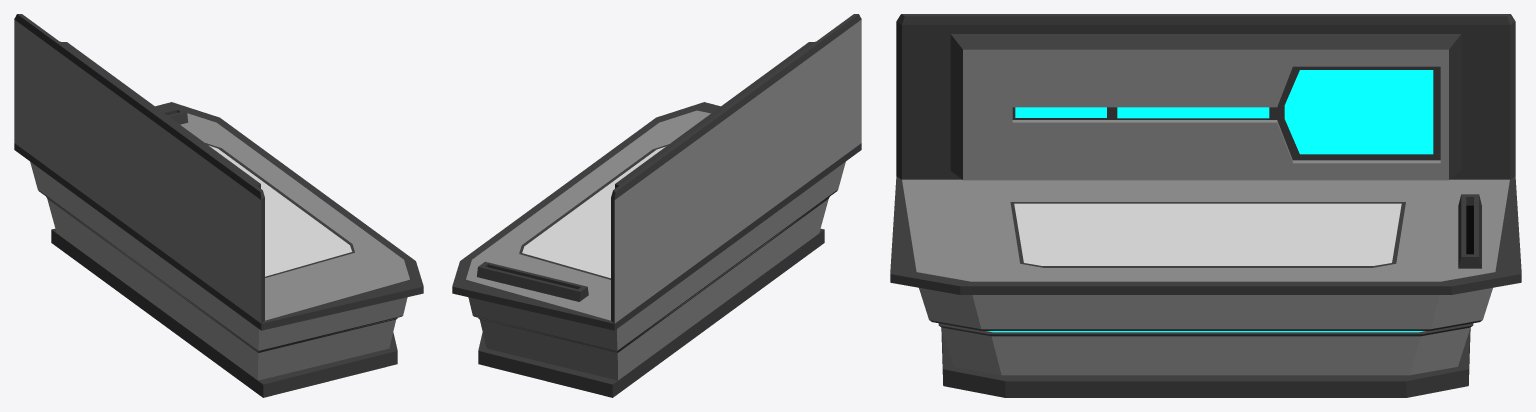
File: jigsaw puzzle.fbx
3 views of the same model, side by side, from view 1: azimuth 30°, elevation 25°; view 2: azimuth 150°, elevation 25°; view 3: azimuth 270°, elevation 25° (orthographic). The views are drawn at different scales.
Visible parts, largest first — view 1: Cube; view 2: Cube; view 3: Cube.
Boxes of the visible parts, left/top/right/bottom form: Cube: left=14, top=14, right=423, bottom=397; Cube: left=452, top=14, right=861, bottom=397; Cube: left=890, top=14, right=1521, bottom=397.
Size of the model in its own units: 432 by 508 by 1047.
